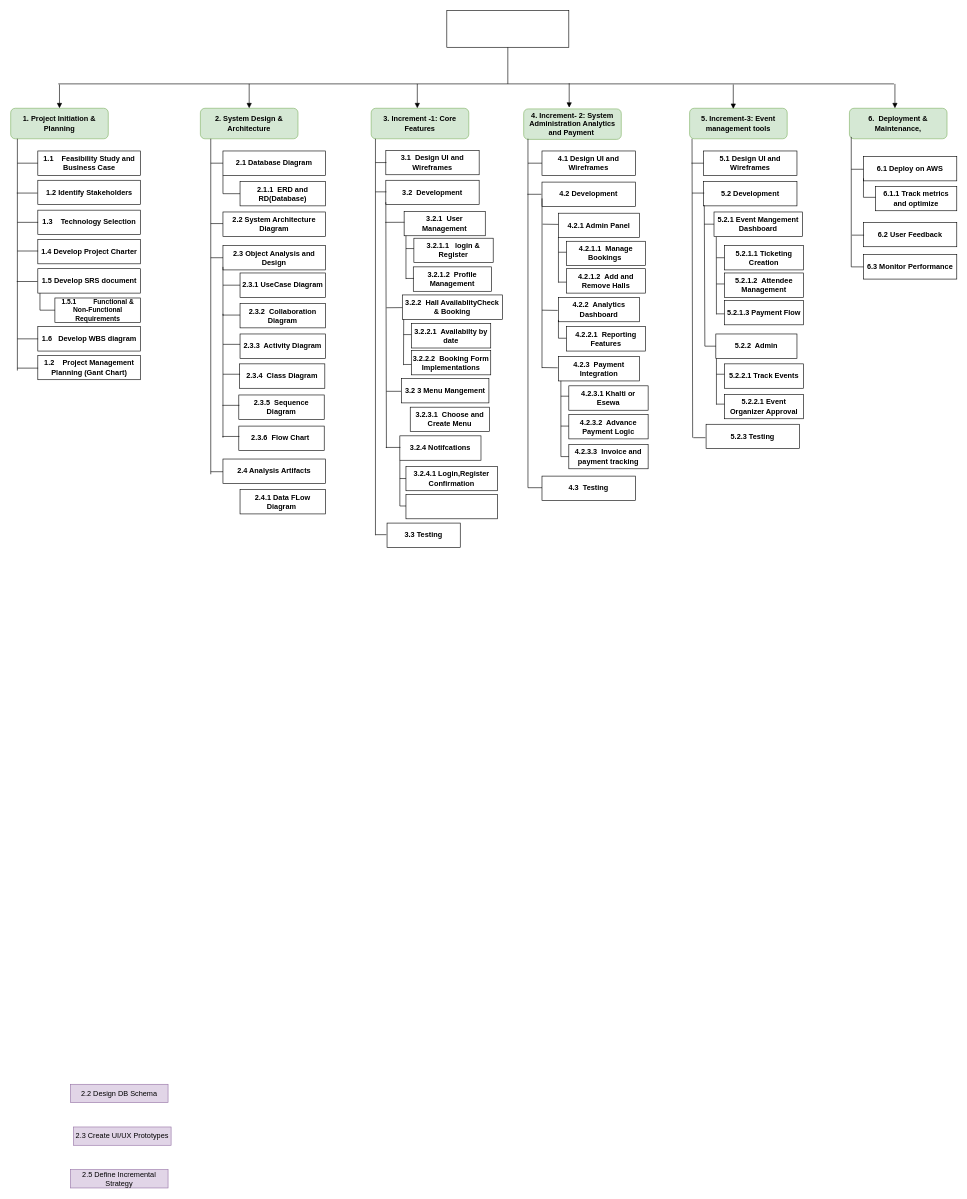
The diagram is 967 pixels wide and 1199 high, and some of its shapes have lost their labels. The shapes that lost their labels are listed below. From the top down, each one's centre as x and y in pixels, then its label:
point 507,28: Shubham Venue: Booking System
point 451,506: 3.2.4.2 Booking Requests and Confirmations
